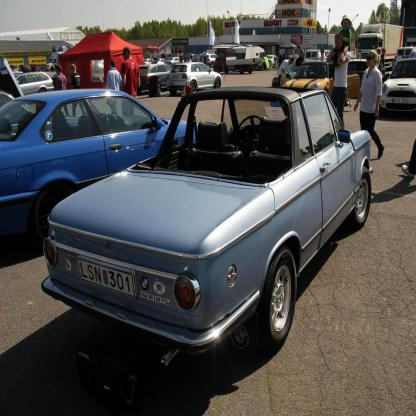Car: (0, 54, 416, 375)
